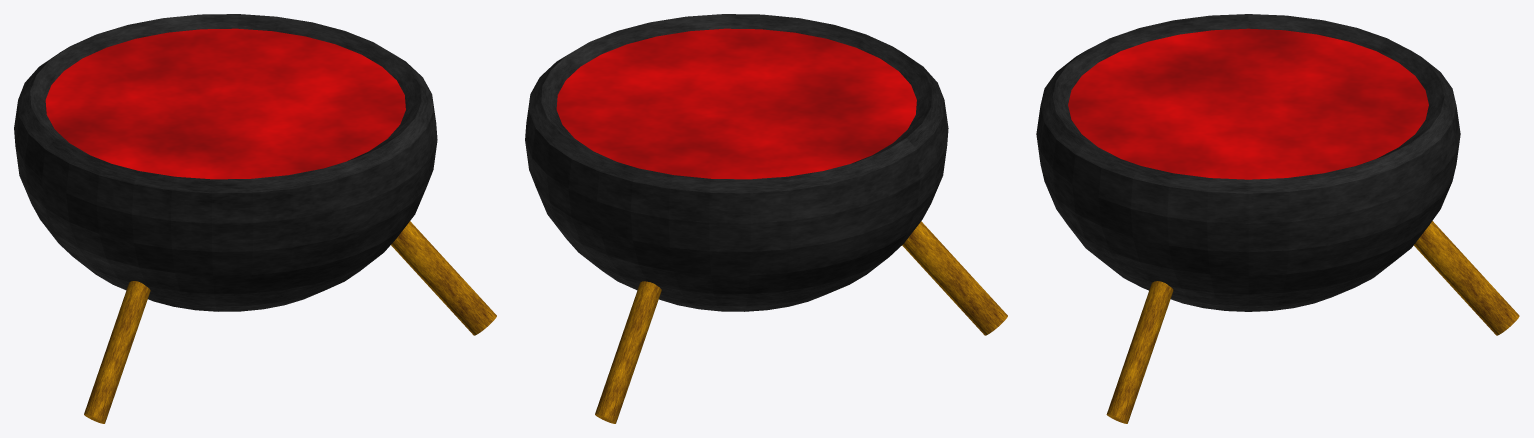
Rendered from StatCauldronFBX.fbx.
3 views of the same model, side by side, from view 1: azimuth 30°, elevation 25°; view 2: azimuth 150°, elevation 25°; view 3: azimuth 270°, elevation 25° (orthographic).
Parts seen in each view (by area): view 1: Cauldron, Liquid, Leg2, Leg3; view 2: Cauldron, Liquid, Leg3, Leg1; view 3: Cauldron, Liquid, Leg1, Leg2.
Boxes of the visible parts, x1,y1,x2,y2 form: Cauldron: (14, 14, 437, 311); Liquid: (45, 28, 405, 179); Leg2: (391, 221, 496, 335); Leg3: (84, 281, 150, 423); Cauldron: (525, 14, 948, 311); Liquid: (556, 28, 916, 179); Leg3: (902, 221, 1007, 335); Leg1: (595, 281, 661, 423); Cauldron: (1036, 14, 1460, 311); Liquid: (1068, 28, 1428, 179); Leg1: (1414, 221, 1519, 335); Leg2: (1106, 281, 1173, 423).
Bounding box in the file's own units: 446 × 245 × 456.
Materials: 3 (3 with a texture image).
